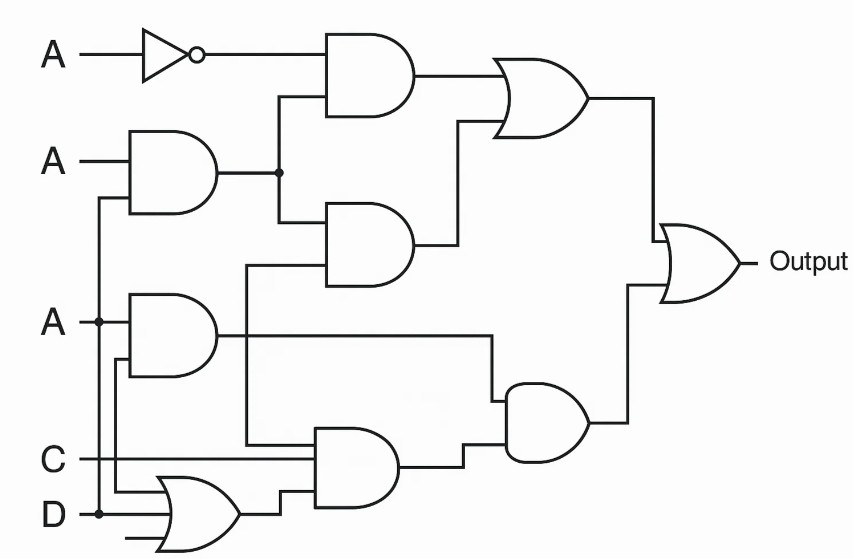and gate: (321, 196, 422, 292), (125, 124, 224, 221), (124, 290, 226, 383), (312, 421, 410, 517), (322, 30, 422, 124)
not gate: (140, 25, 211, 91)
or gate: (488, 50, 598, 145), (151, 469, 247, 556), (657, 218, 747, 309)
